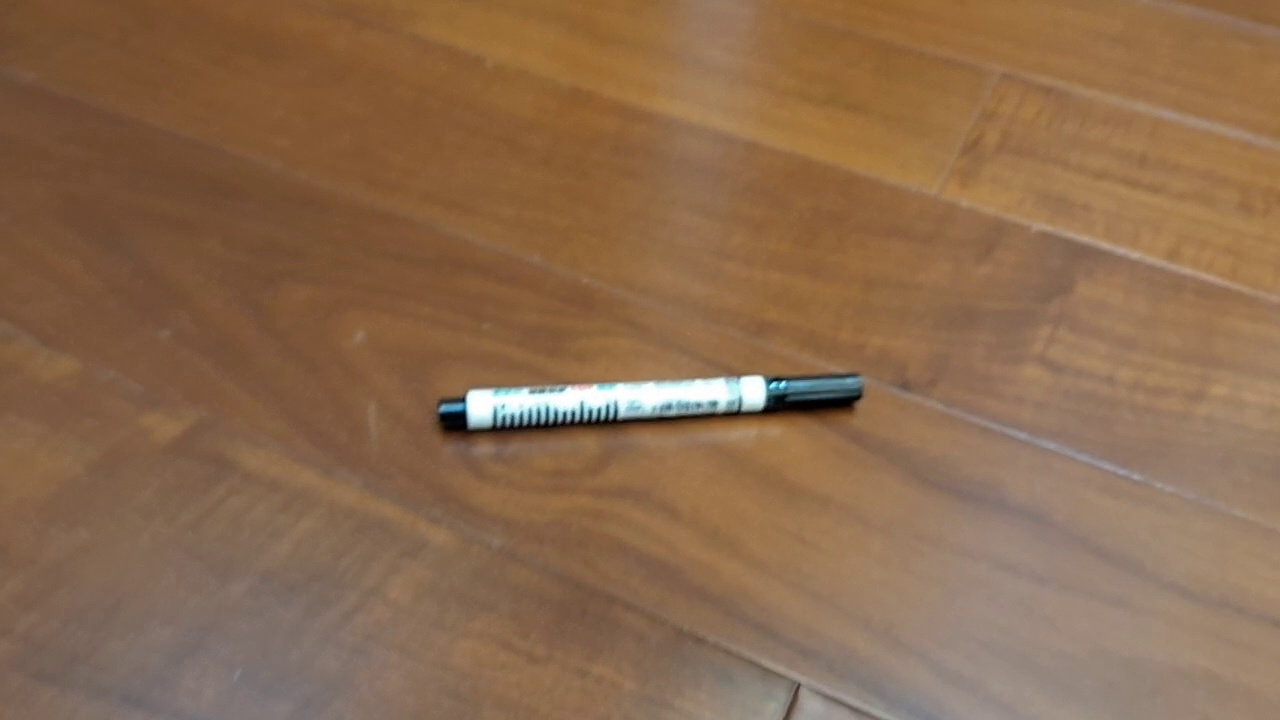pen: (437, 370, 865, 433)
